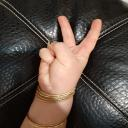PeaceSign: (36, 13, 104, 102)
